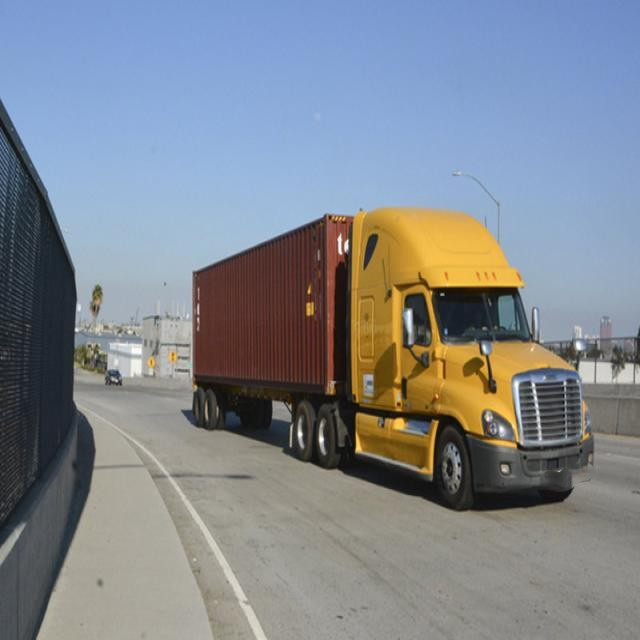truck: (195, 203, 588, 511)
